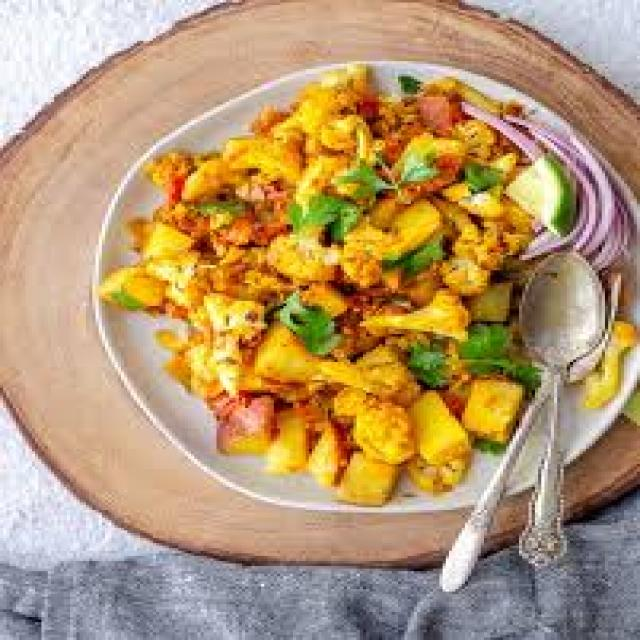Aloo Gobi: (164, 112, 499, 490)
